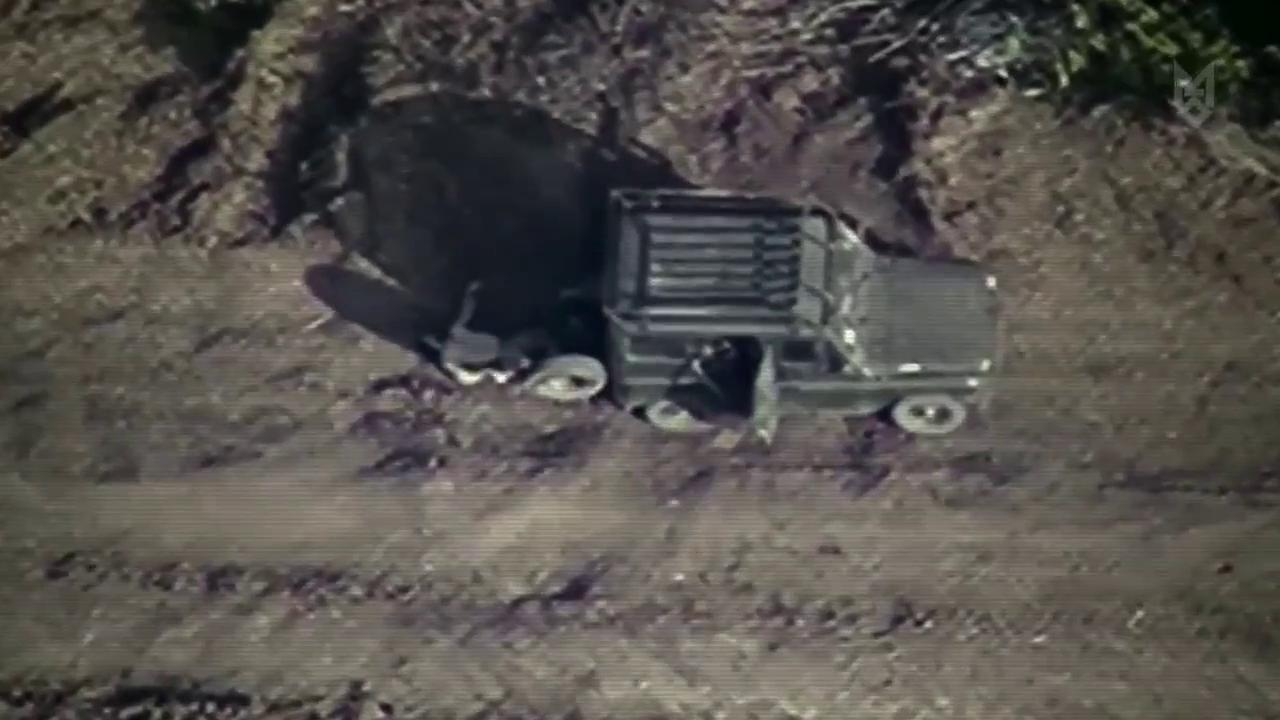tank: (603, 182, 1009, 444)
